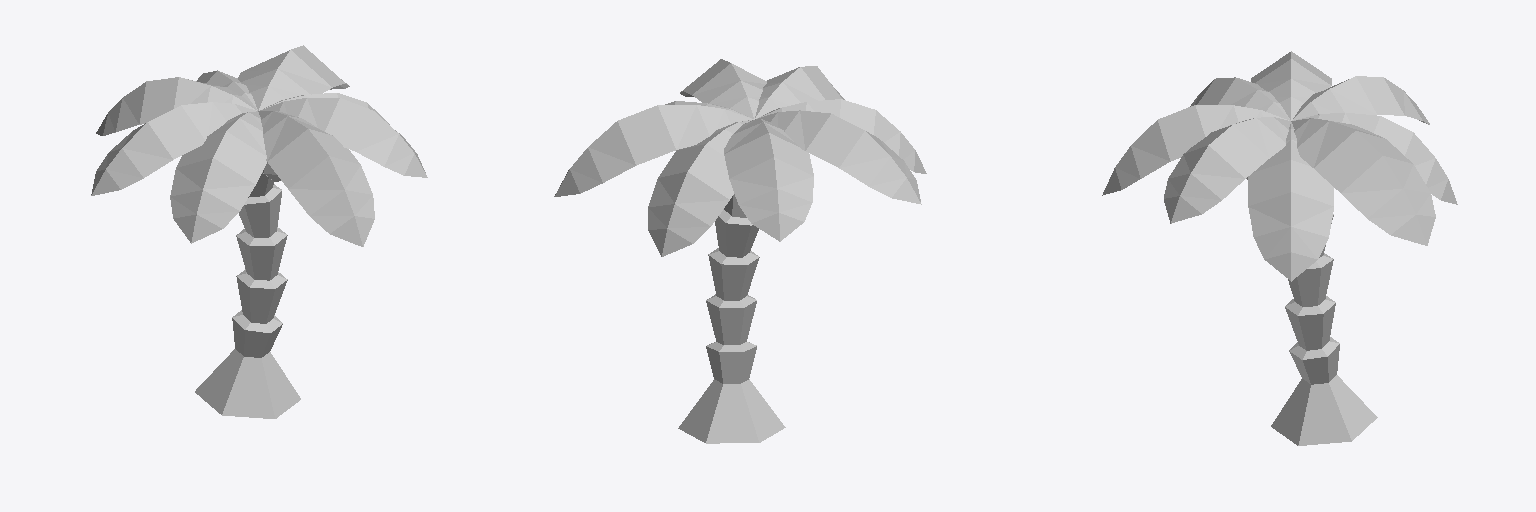
The model's file is Prop_Tree_Palm_3.obj.
3 views of the same model, side by side, from view 1: azimuth 30°, elevation 25°; view 2: azimuth 150°, elevation 25°; view 3: azimuth 270°, elevation 25° (orthographic).
Visible parts, largest first — view 1: object7, object15, object9, object6, object18, object2, object19, object4, object10, object13, object14, object1; view 2: object2, object19, object1, object9, object18, object6, object15, object7, object4, object10, object13, object14; view 3: object19, object12, object6, object7, object18, object2, object1, object9, object15, object4, object13, object10.
Boxes of the visible parts, x1,y1,x2,y2 form: object7: [258, 111, 374, 246]; object15: [170, 111, 266, 243]; object9: [91, 102, 255, 195]; object6: [260, 98, 427, 177]; object18: [195, 349, 300, 418]; object2: [96, 77, 256, 135]; object19: [238, 45, 349, 110]; object4: [236, 269, 287, 323]; object10: [236, 227, 287, 280]; object13: [232, 310, 282, 357]; object14: [239, 184, 281, 237]; object1: [197, 70, 257, 110]; object2: [724, 118, 813, 241]; object19: [554, 105, 753, 196]; object1: [648, 120, 751, 256]; object9: [760, 110, 921, 204]; object18: [678, 379, 785, 443]; object6: [680, 59, 766, 118]; object15: [757, 99, 926, 173]; object7: [754, 66, 844, 119]; object4: [706, 294, 756, 344]; object10: [708, 248, 759, 300]; object13: [706, 342, 756, 383]; object14: [715, 209, 758, 257]; object19: [1291, 118, 1435, 245]; object12: [1248, 122, 1333, 281]; object6: [1164, 117, 1290, 223]; object7: [1102, 105, 1288, 195]; object18: [1271, 375, 1377, 445]; object2: [1292, 76, 1429, 124]; object1: [1294, 113, 1457, 204]; object9: [1251, 51, 1331, 120]; object15: [1190, 77, 1290, 120]; object4: [1285, 296, 1335, 350]; object13: [1289, 337, 1339, 384]; object10: [1288, 253, 1333, 306].
Size of the model in its own units: 3.42 by 3.35 by 3.31.